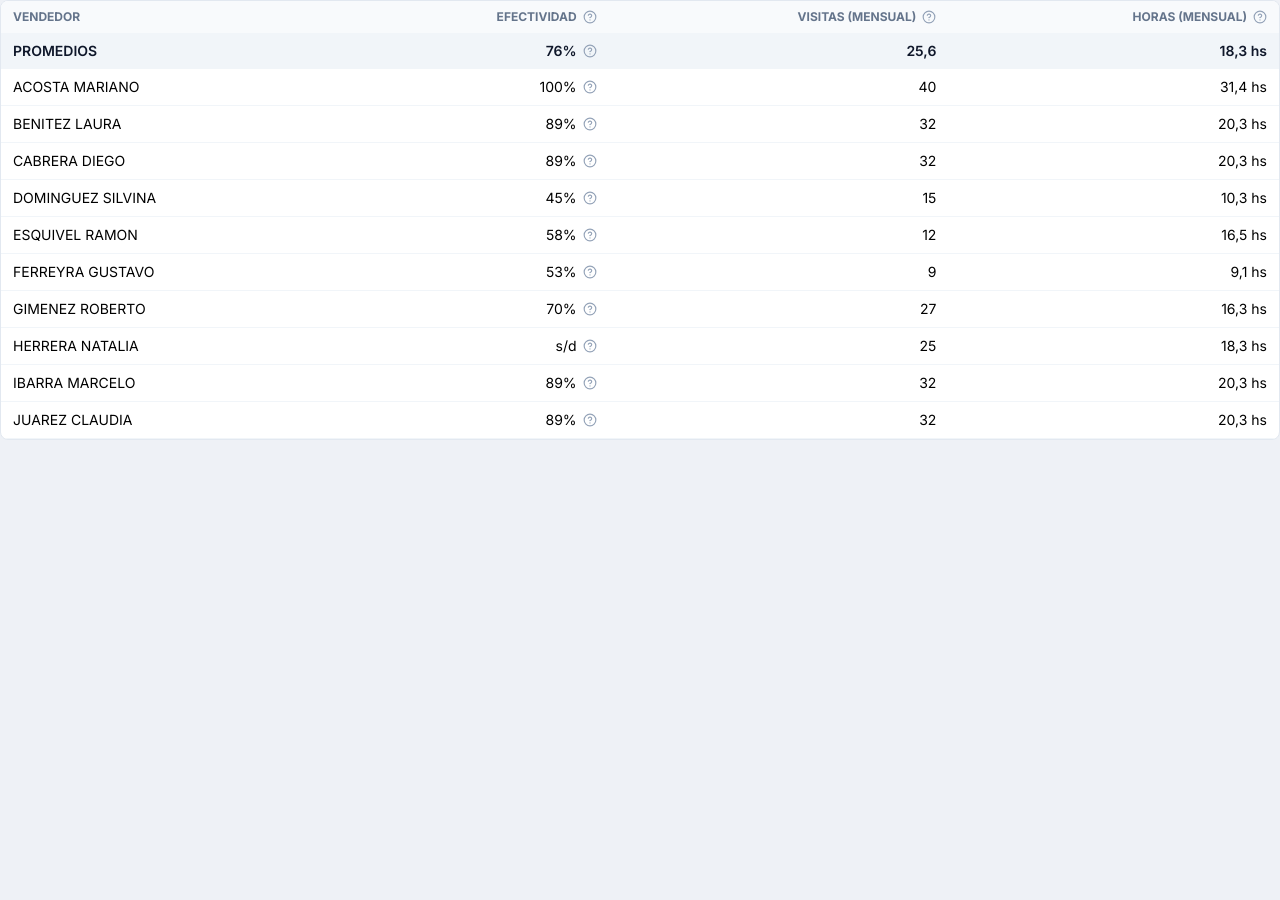
Test: cada columna tiene un botón de ayuda con la explicación completa (la meta ya se ve arriba, en los KPIs)
Click the button named "Qué significa Horas (mensual)" at (1260, 17), box [1253,10,1267,24]
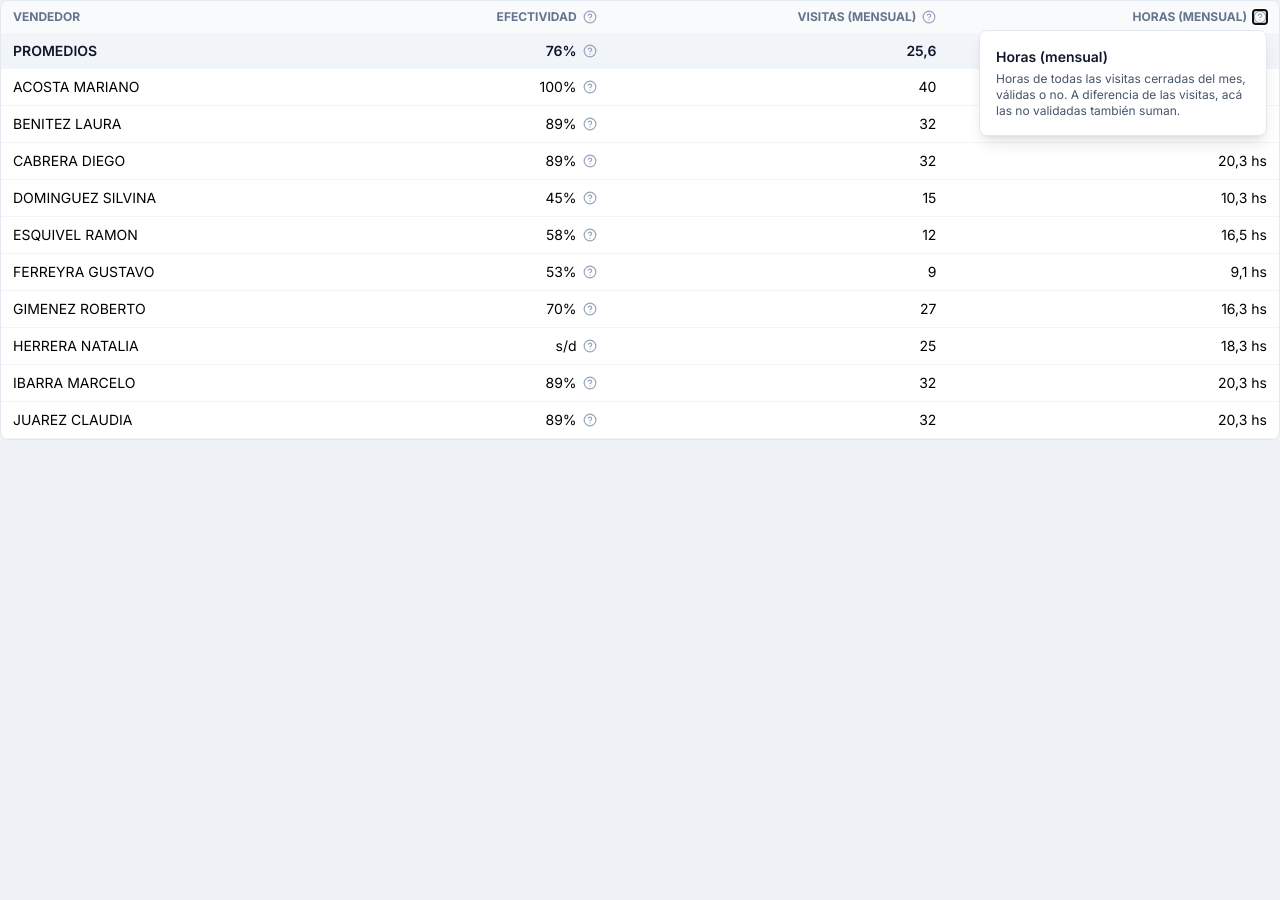
Now the text "Horas de todas las visitas cerradas del mes, válidas o no" is shown, box [996,71,1246,118]
